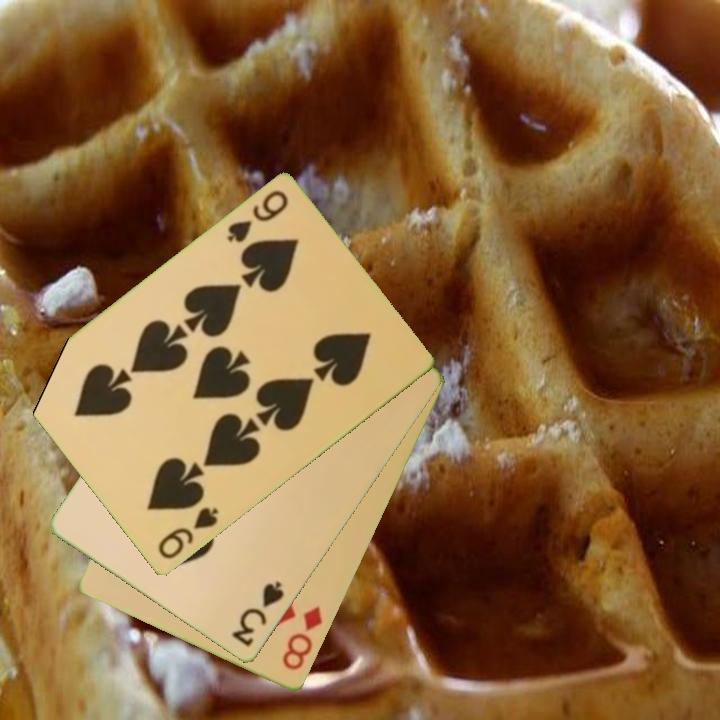3s: (228, 578, 288, 650)
8d: (278, 603, 326, 674)
9s: (223, 187, 291, 247), (154, 504, 222, 563)
